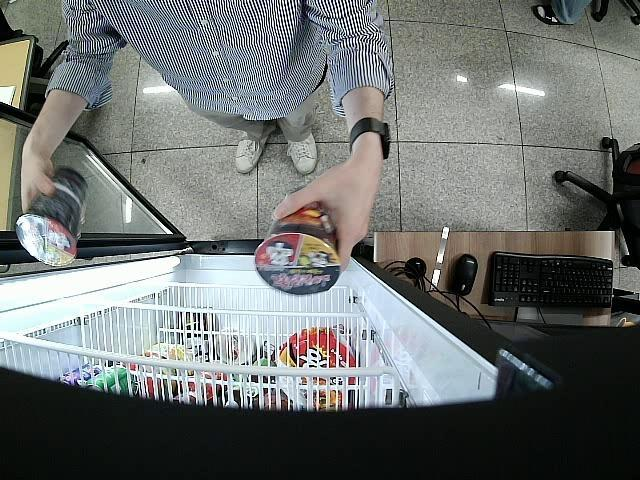08_buldak_S: (254, 202, 340, 297), (15, 168, 90, 266)
